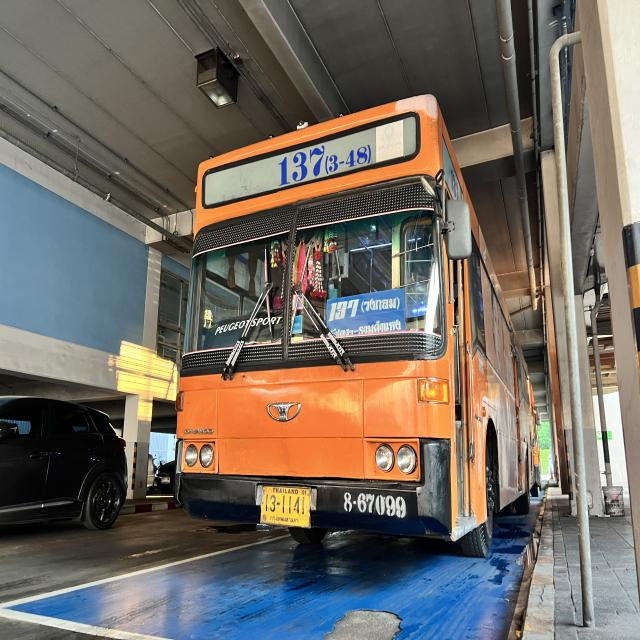BMTA-bus: (175, 95, 537, 557)
Bus-Line-Number: (275, 127, 378, 191)
Destination-Sign-Normal: (326, 286, 406, 341)
